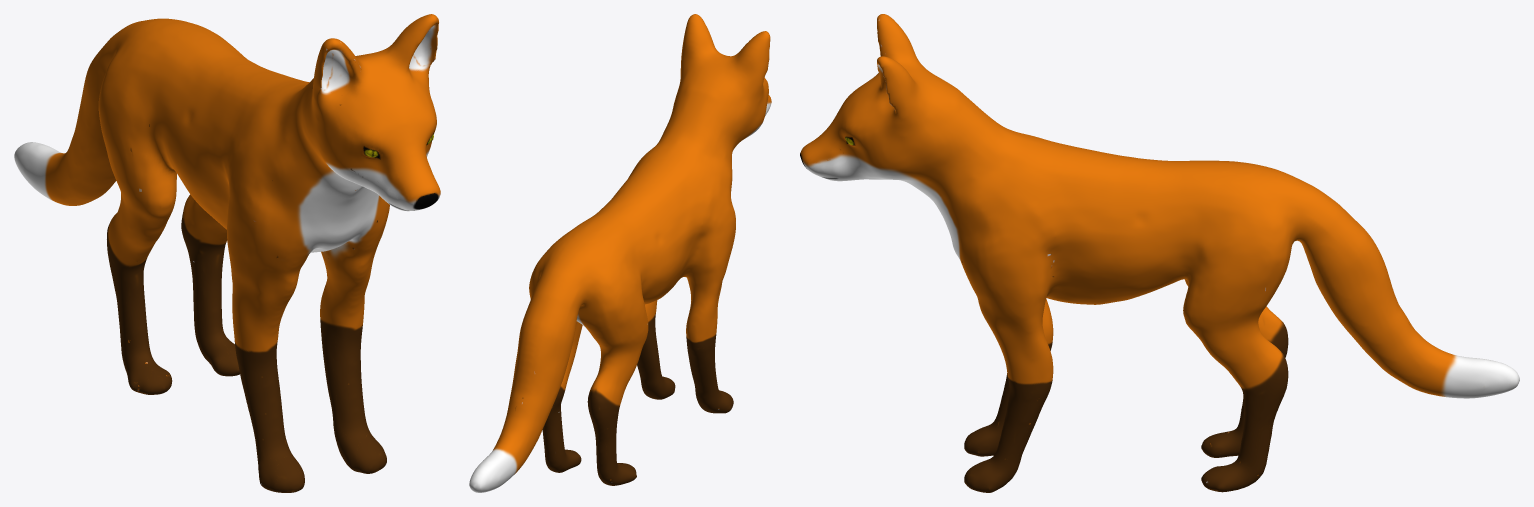
The model's file is Red_Fox_without_hair.fbx.
3 renders of one model, left to right at view 1: azimuth 30°, elevation 25°; view 2: azimuth 150°, elevation 25°; view 3: azimuth 270°, elevation 25°, orthographic. The views are drawn at different scales.
Parts seen in each view (by area): view 1: Mesh0; view 2: Mesh0; view 3: Mesh0.
Part boxes in pixels (bbox=[...]): Mesh0: bbox=[14, 14, 440, 492]; Mesh0: bbox=[469, 14, 771, 492]; Mesh0: bbox=[800, 14, 1519, 492].
Bounding box in the file's own units: 40.5 × 133 × 200.
Materials: 1 (1 with a texture image).
